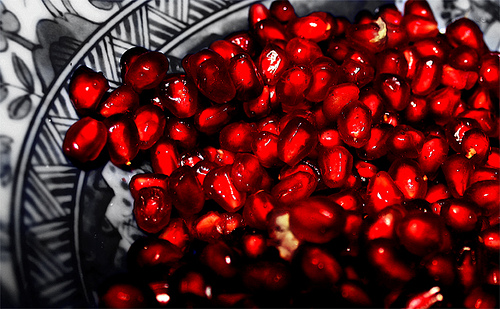pomogranate: (59, 0, 499, 308)
